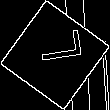L_W: (27, 36, 83, 74)
